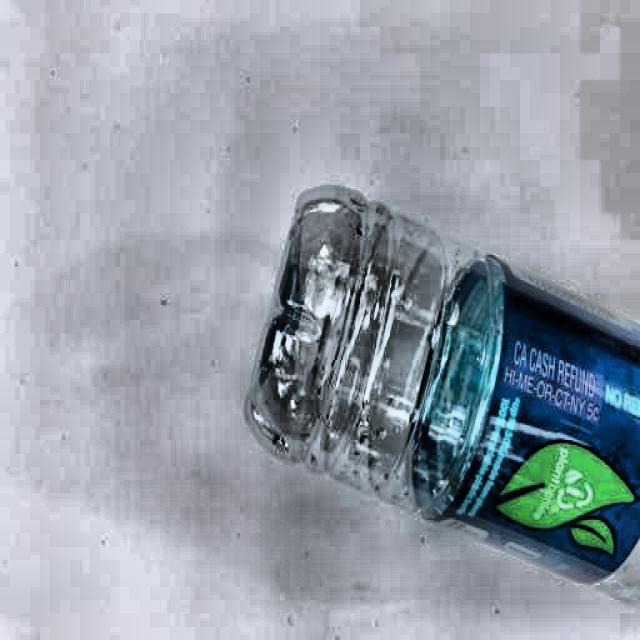plastic: (242, 180, 640, 597)
